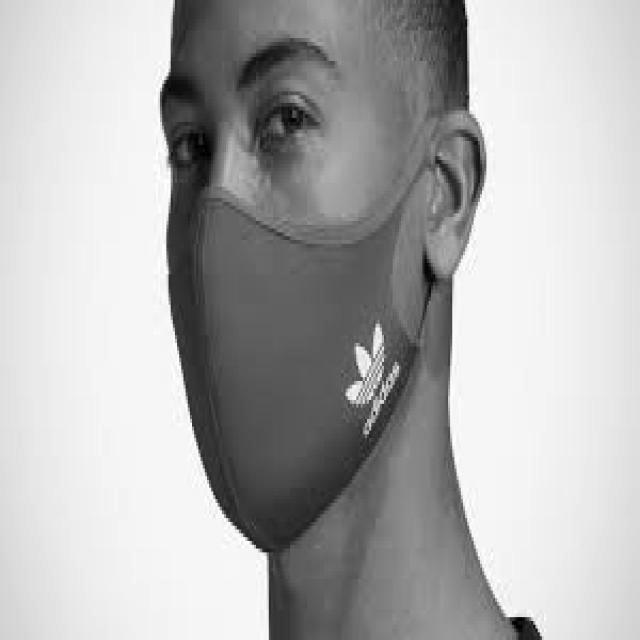fake: (159, 178, 441, 570)
real: (155, 0, 435, 570)
